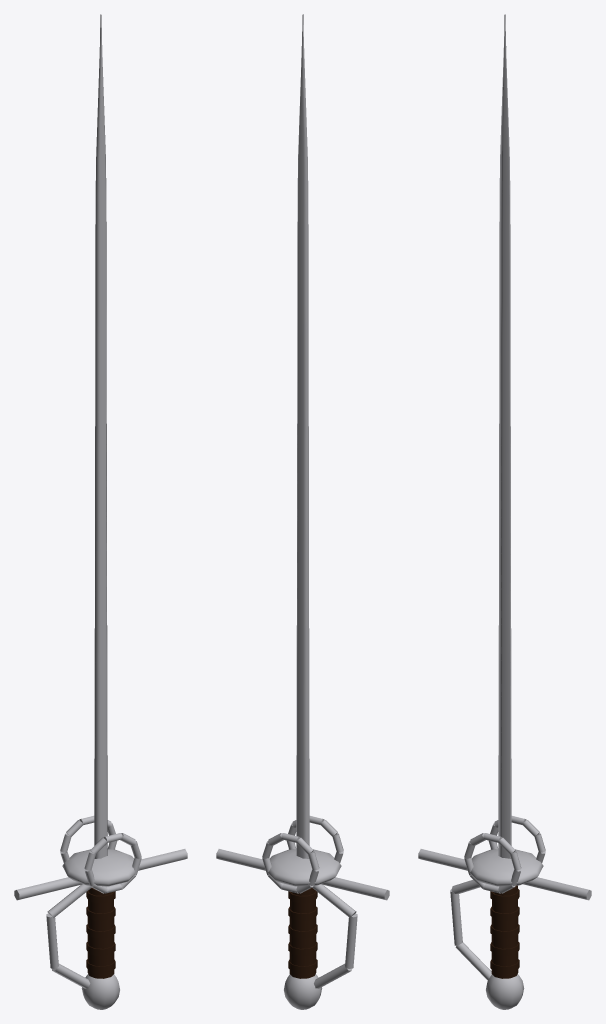
File: SM_Art_Weapon_Rapier.gltf
3 views of the same model, side by side, from view 1: azimuth 30°, elevation 25°; view 2: azimuth 150°, elevation 25°; view 3: azimuth 330°, elevation 25° (orthographic).
Parts seen in each view (by area): view 1: SM_Art_Weapon_Rapier; view 2: SM_Art_Weapon_Rapier; view 3: SM_Art_Weapon_Rapier.
Boxes of the visible parts, x1,y1,x2,y2 form: SM_Art_Weapon_Rapier: (14,14,187,1009); SM_Art_Weapon_Rapier: (216,14,389,1009); SM_Art_Weapon_Rapier: (418,14,591,1009).
Size of the model in its own units: 0.2002 by 1.13 by 0.0762.
